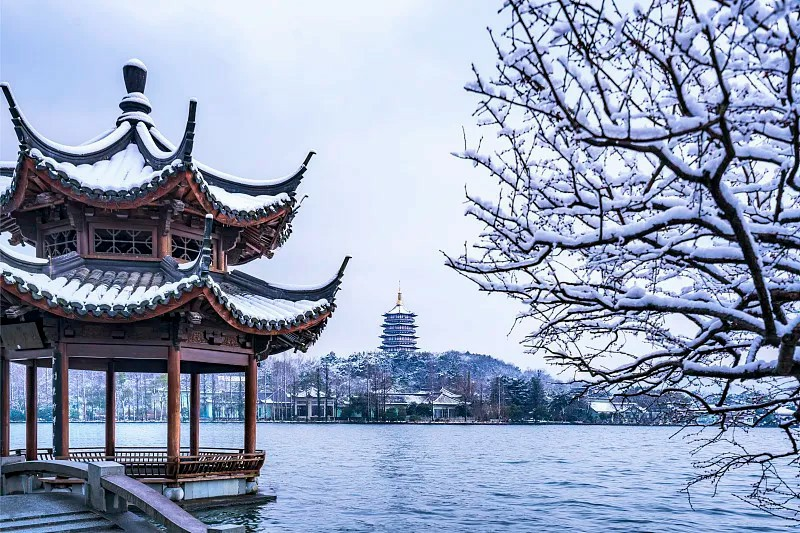Leifeng: (379, 280, 419, 356)
